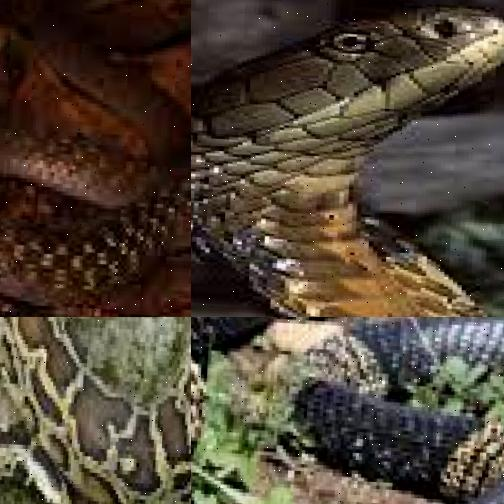1: (191, 317, 504, 504)
2: (0, 0, 191, 317)
5: (191, 0, 504, 317)
snake: (0, 317, 191, 504)
